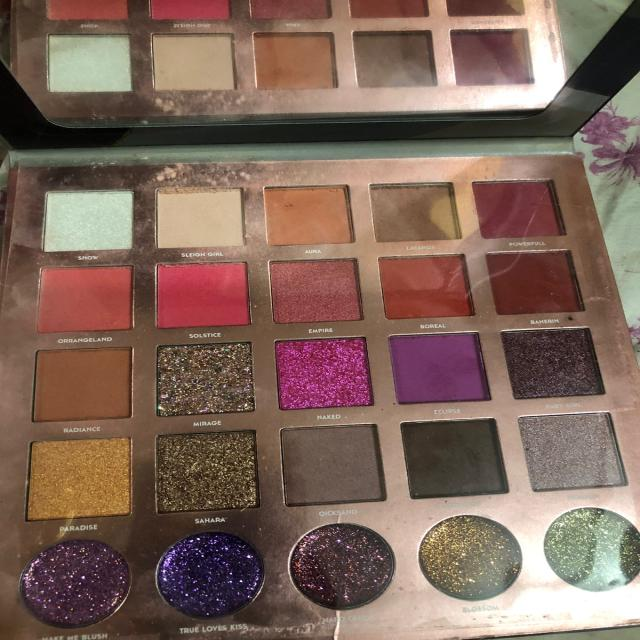eye shade: (22, 514, 640, 628), (27, 405, 640, 508), (22, 331, 633, 415), (28, 179, 587, 252), (38, 255, 598, 318)
